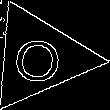O_N: (14, 30, 65, 84)
